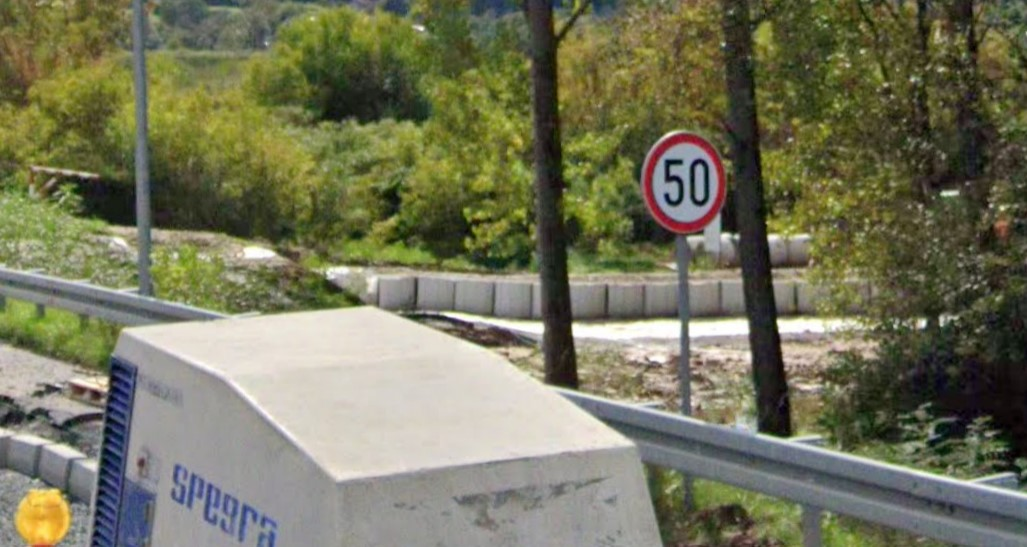Ograničenje brzine 50: (641, 130, 727, 233)
